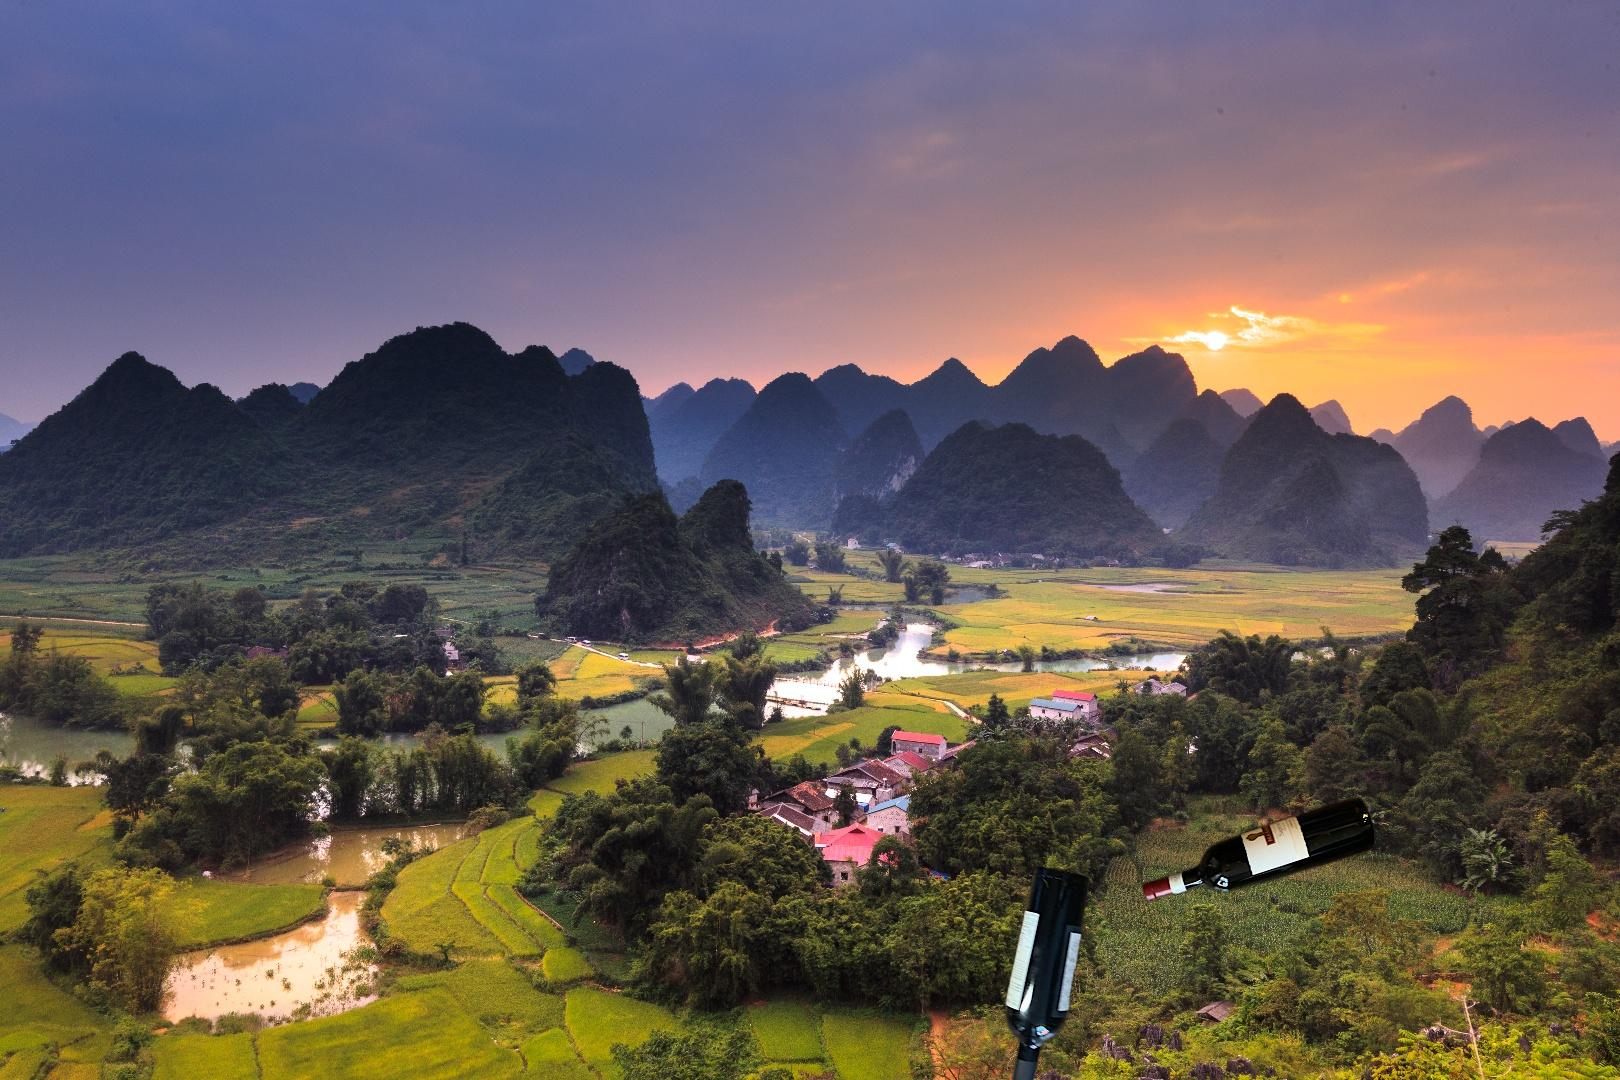glass: (1137, 793, 1380, 906), (1000, 861, 1093, 1080)
